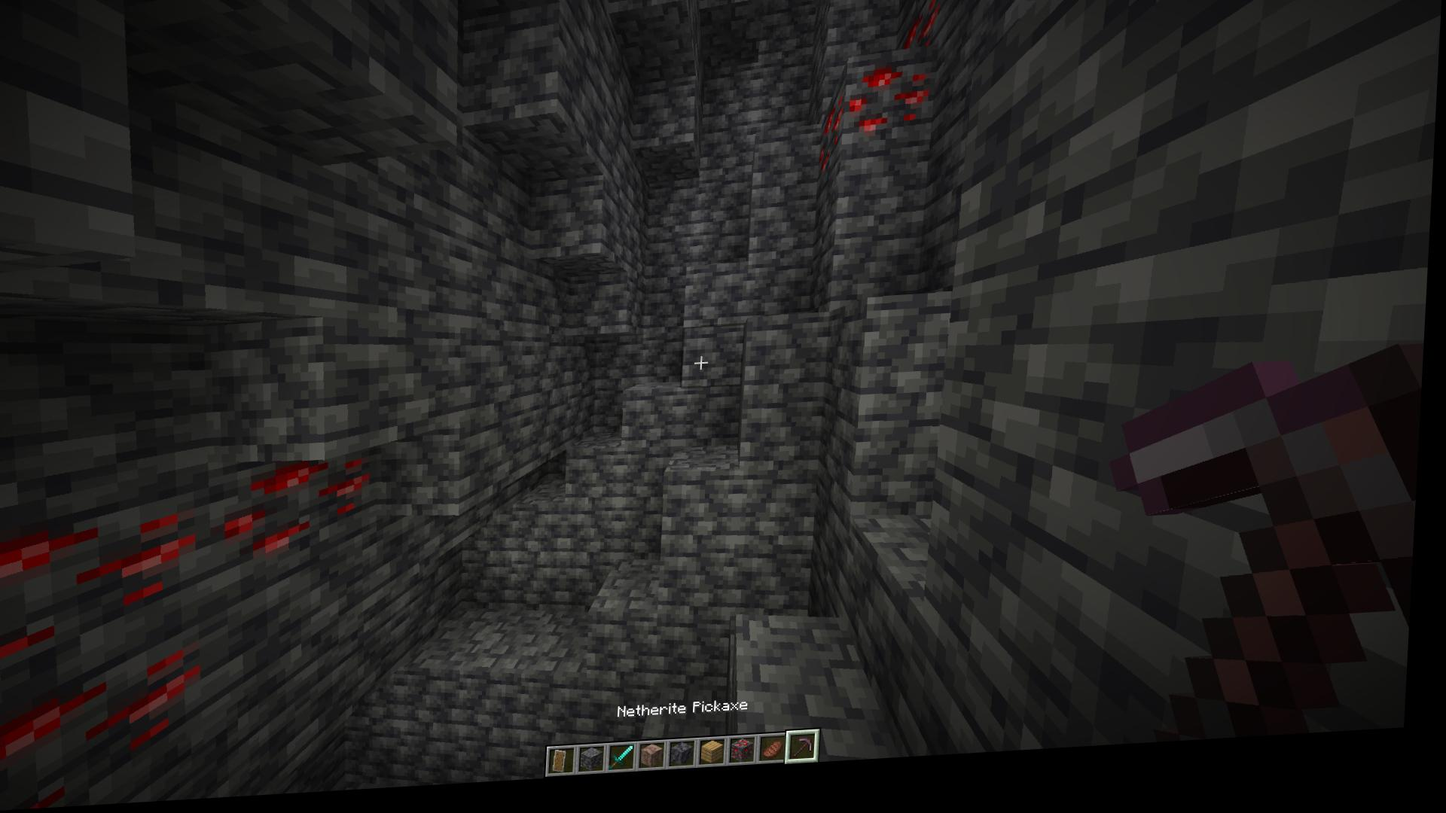redstone ore: (0, 501, 208, 804), (223, 448, 383, 561), (843, 69, 935, 146), (820, 110, 849, 180)
